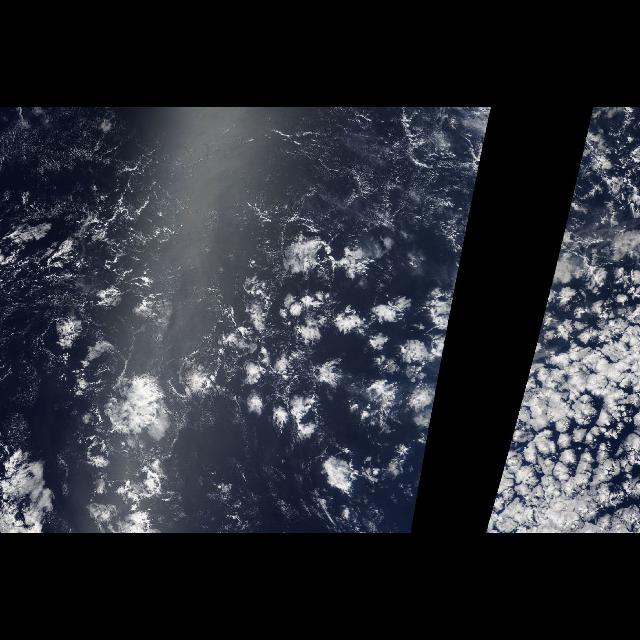Flower: (10, 222, 470, 534), (484, 222, 636, 534)
Sugar: (4, 108, 458, 245)
